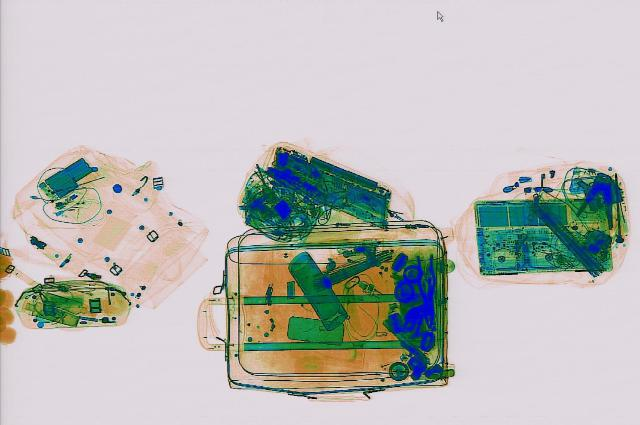Pliers: (409, 252, 446, 331), (574, 172, 622, 229)
